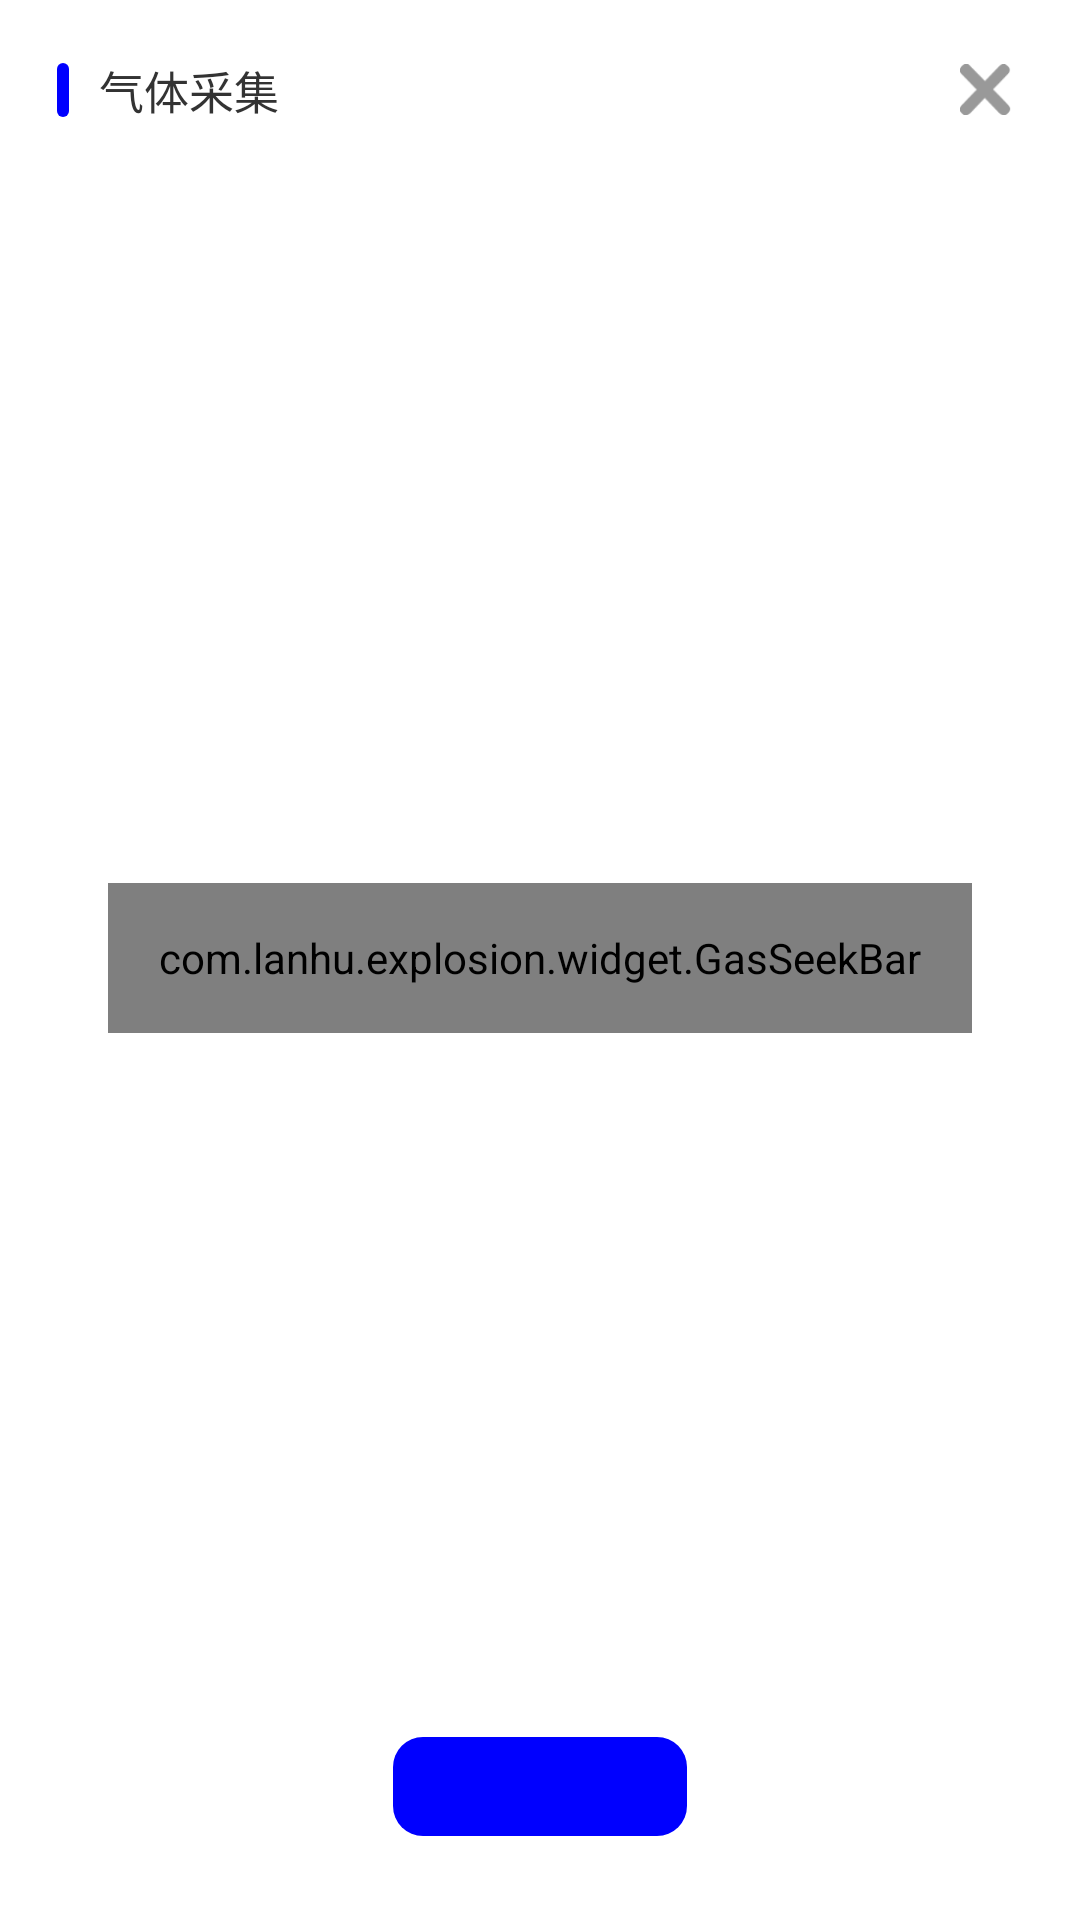

Icon click points for this 1080x1920 phone screenshot, format (x=x, y=y):
close: (x=985, y=89)
